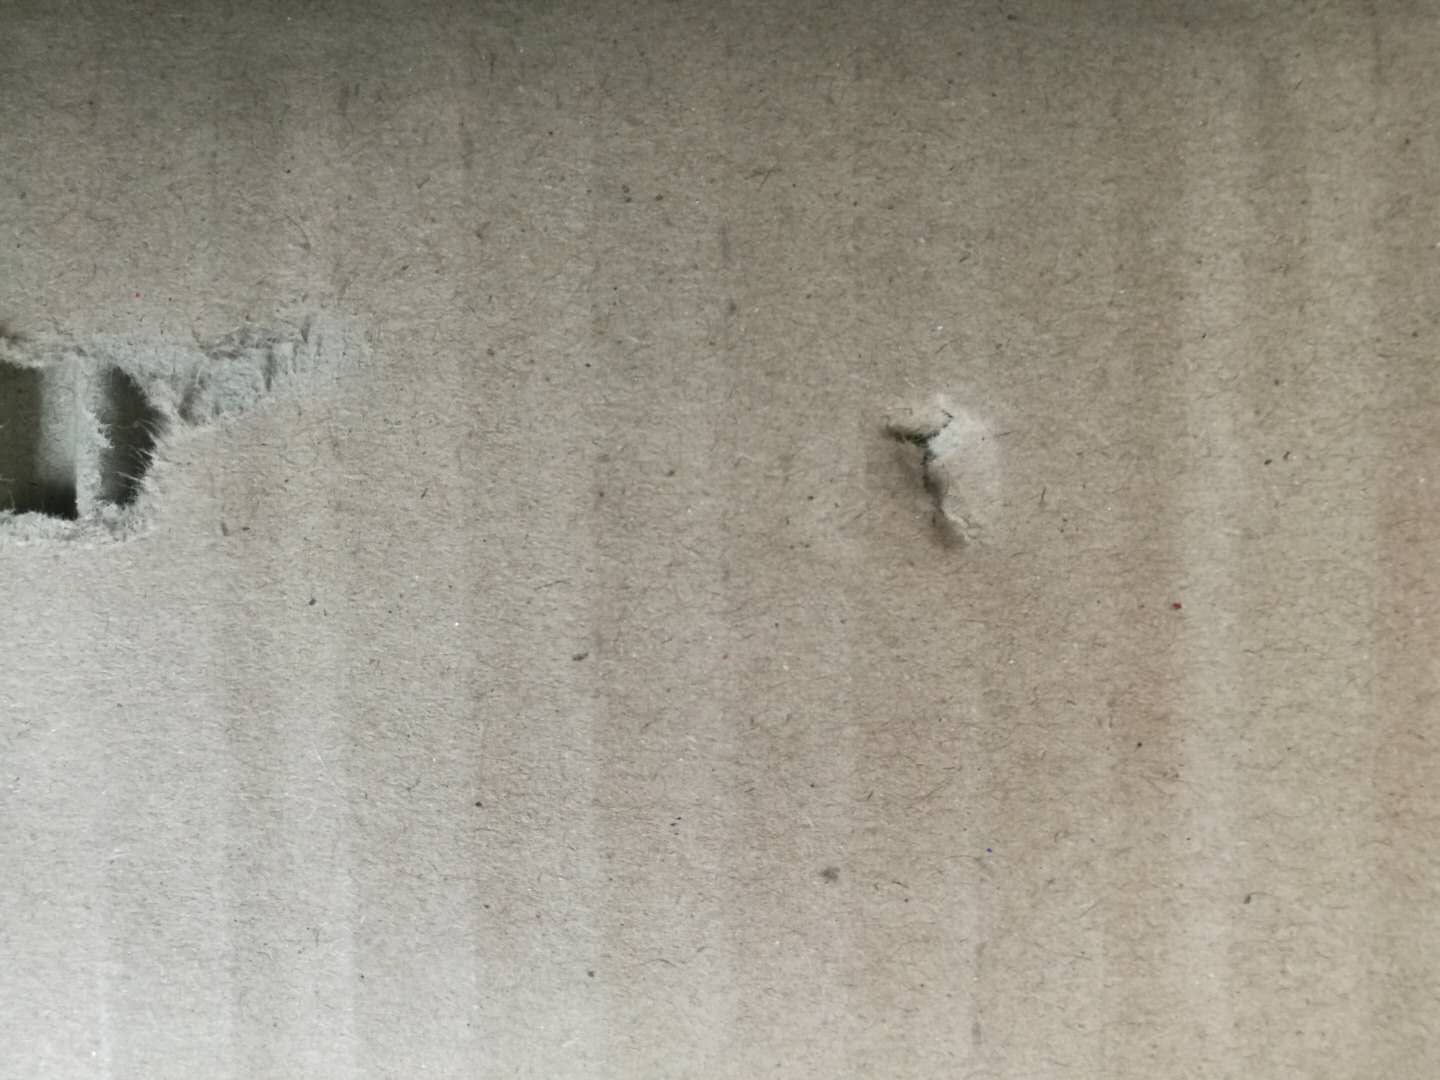defect: (1, 261, 405, 577), (858, 373, 1035, 602)
